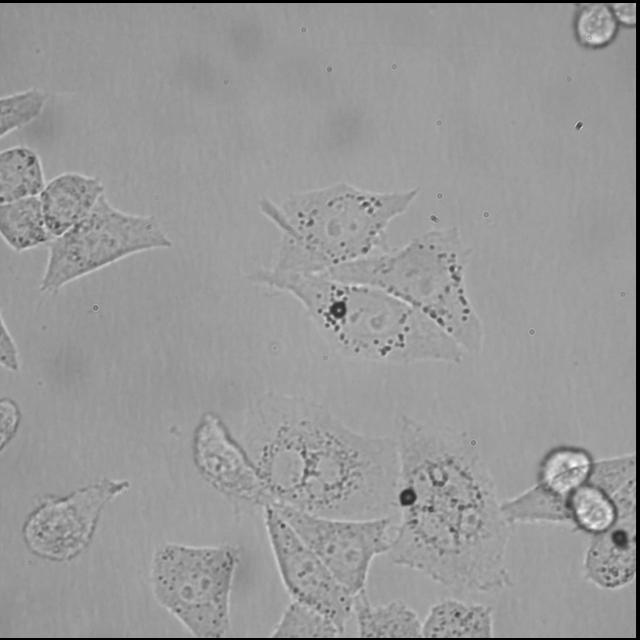microbeads: (396, 482, 422, 510), (328, 298, 350, 320)
